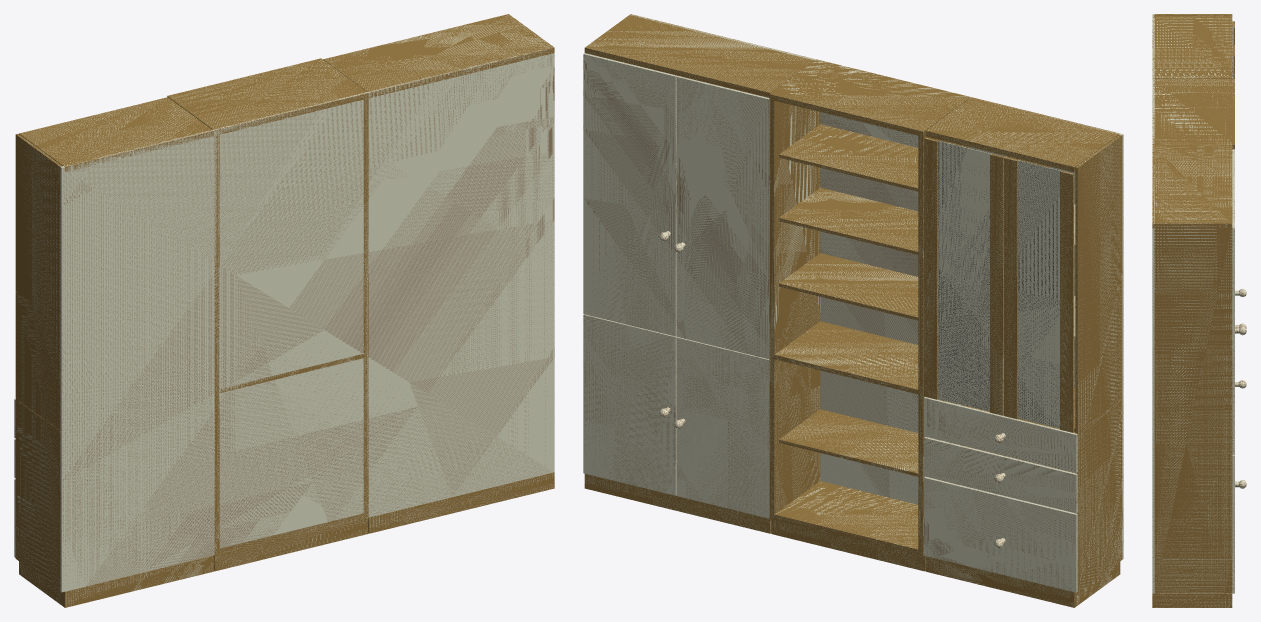
3 views of the same model, side by side, from view 1: azimuth 30°, elevation 25°; view 2: azimuth 150°, elevation 25°; view 3: azimuth 270°, elevation 25° (orthographic). The views are drawn at different scales.
Parts seen in each view (by area): view 1: mesh9_mesh9-geometry, mesh14_mesh14-geometry, mesh32_mesh32-geometry, mesh17_mesh17-geometry, mesh33_mesh33-geometry, mesh34_mesh34-geometry, mesh1_mesh1-geometry; view 2: mesh14_mesh14-geometry, mesh9_mesh9-geometry, mesh29_mesh29-geometry, mesh12_mesh12-geometry, mesh11_mesh11-geometry, mesh13_mesh13-geometry, mesh10_mesh10-geometry, mesh23_mesh23-geometry, mesh32_mesh32-geometry, mesh17_mesh17-geometry, mesh28_mesh28-geometry, mesh22_mesh22-geometry (+10 smaller); view 3: mesh9_mesh9-geometry, mesh32_mesh32-geometry, mesh14_mesh14-geometry, mesh17_mesh17-geometry, mesh33_mesh33-geometry, mesh11_mesh11-geometry, mesh10_mesh10-geometry.
Part boxes in pixels (left/top/right/bottom): mesh9_mesh9-geometry: left=15, top=14, right=554, bottom=592; mesh14_mesh14-geometry: left=167, top=58, right=368, bottom=554; mesh32_mesh32-geometry: left=323, top=14, right=554, bottom=97; mesh17_mesh17-geometry: left=19, top=97, right=213, bottom=171; mesh33_mesh33-geometry: left=368, top=472, right=554, bottom=533; mesh34_mesh34-geometry: left=19, top=555, right=213, bottom=607; mesh1_mesh1-geometry: left=214, top=518, right=368, bottom=571; mesh14_mesh14-geometry: left=769, top=59, right=970, bottom=556; mesh9_mesh9-geometry: left=584, top=14, right=1123, bottom=592; mesh29_mesh29-geometry: left=927, top=138, right=1073, bottom=428; mesh12_mesh12-geometry: left=676, top=76, right=769, bottom=359; mesh11_mesh11-geometry: left=583, top=53, right=676, bottom=336; mesh13_mesh13-geometry: left=676, top=337, right=769, bottom=518; mesh10_mesh10-geometry: left=583, top=314, right=676, bottom=495; mesh23_mesh23-geometry: left=924, top=476, right=1077, bottom=592; mesh32_mesh32-geometry: left=584, top=14, right=814, bottom=97; mesh17_mesh17-geometry: left=925, top=97, right=1119, bottom=172; mesh28_mesh28-geometry: left=990, top=153, right=1049, bottom=418; mesh22_mesh22-geometry: left=924, top=437, right=1077, bottom=513; mesh9_mesh9-geometry: left=1152, top=14, right=1232, bottom=593; mesh32_mesh32-geometry: left=1152, top=144, right=1232, bottom=228; mesh14_mesh14-geometry: left=1152, top=79, right=1234, bottom=149; mesh17_mesh17-geometry: left=1152, top=15, right=1232, bottom=78; mesh33_mesh33-geometry: left=1152, top=593, right=1232, bottom=607; mesh11_mesh11-geometry: left=1232, top=189, right=1234, bottom=454; mesh10_mesh10-geometry: left=1232, top=455, right=1234, bottom=593.
Size of the model in its own units: 0.7525 by 0.6428 by 0.1434.
